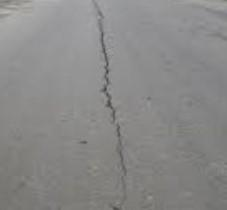crack: (86, 0, 138, 210)
